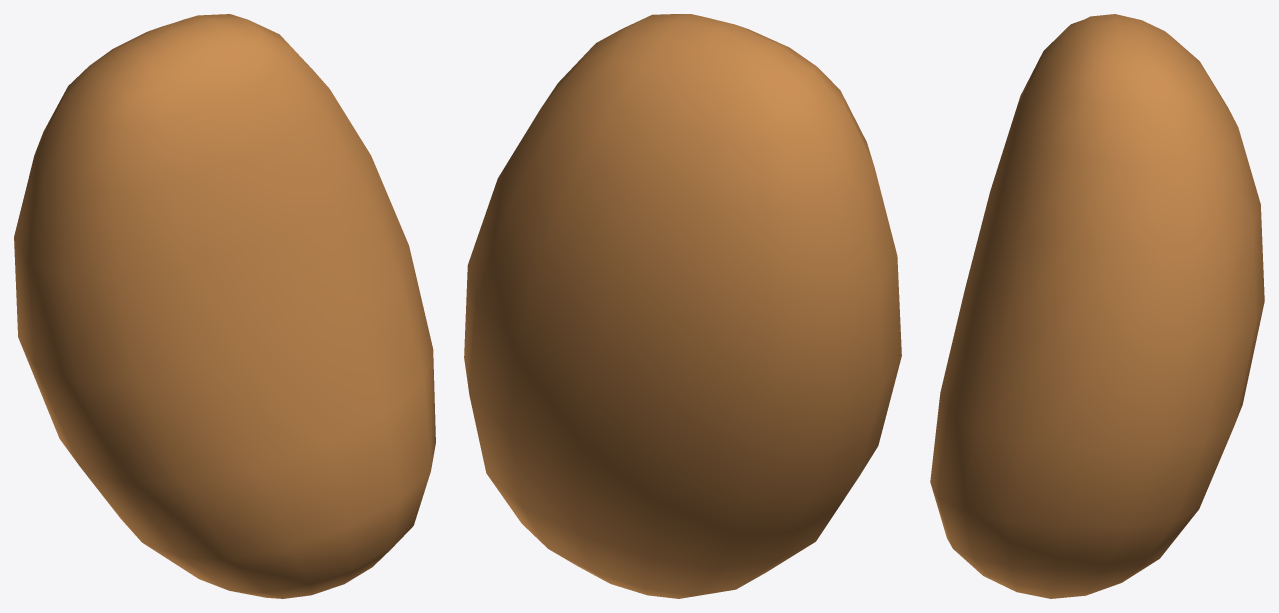
File: Potato.fbx
3 views of the same model, side by side, from view 1: azimuth 30°, elevation 25°; view 2: azimuth 150°, elevation 25°; view 3: azimuth 270°, elevation 25° (orthographic). The views are drawn at different scales.
Visible parts, largest first — view 1: Potato; view 2: Potato; view 3: Potato.
Boxes of the visible parts, x1=… form: Potato: x1=14, y1=14, x2=435, y2=598; Potato: x1=464, y1=14, x2=901, y2=598; Potato: x1=930, y1=14, x2=1264, y2=598.
Size of the model in its own units: 97.12 by 138 by 79.1.
